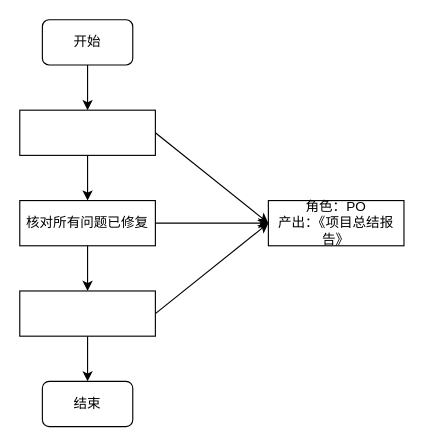
Some shapes in this 424 by 446 pixel diagram are drawn without their labels. Each missing label, with the box of its shape:
核对产品线上运行正常: (19, 290, 155, 336)
核对所有功能点已完成: (19, 109, 155, 155)
